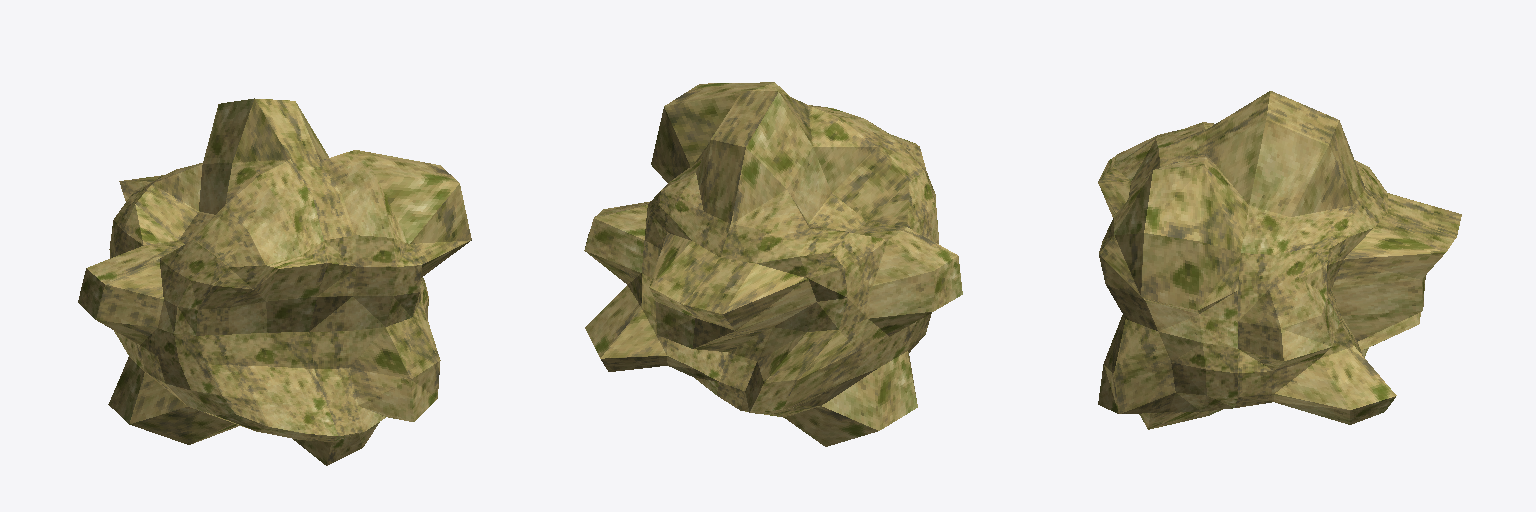
3 renders of one model, left to right at view 1: azimuth 30°, elevation 25°; view 2: azimuth 150°, elevation 25°; view 3: azimuth 270°, elevation 25°, orthographic.
Visible parts, largest first — view 1: projectile_de_Base001; view 2: projectile_de_Base001; view 3: projectile_de_Base001.
Boxes of the visible parts, x1,y1,x2,y2 form: projectile_de_Base001: [78, 98, 471, 465]; projectile_de_Base001: [584, 82, 962, 446]; projectile_de_Base001: [1098, 91, 1461, 429].
Size of the model in its own units: 97.65 by 85.43 by 86.76.
Materials: 1 (1 with a texture image).